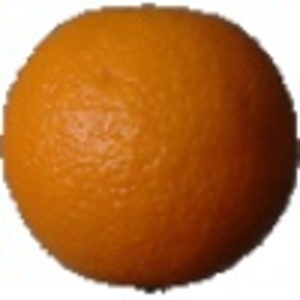laranja: (5, 4, 291, 295)
